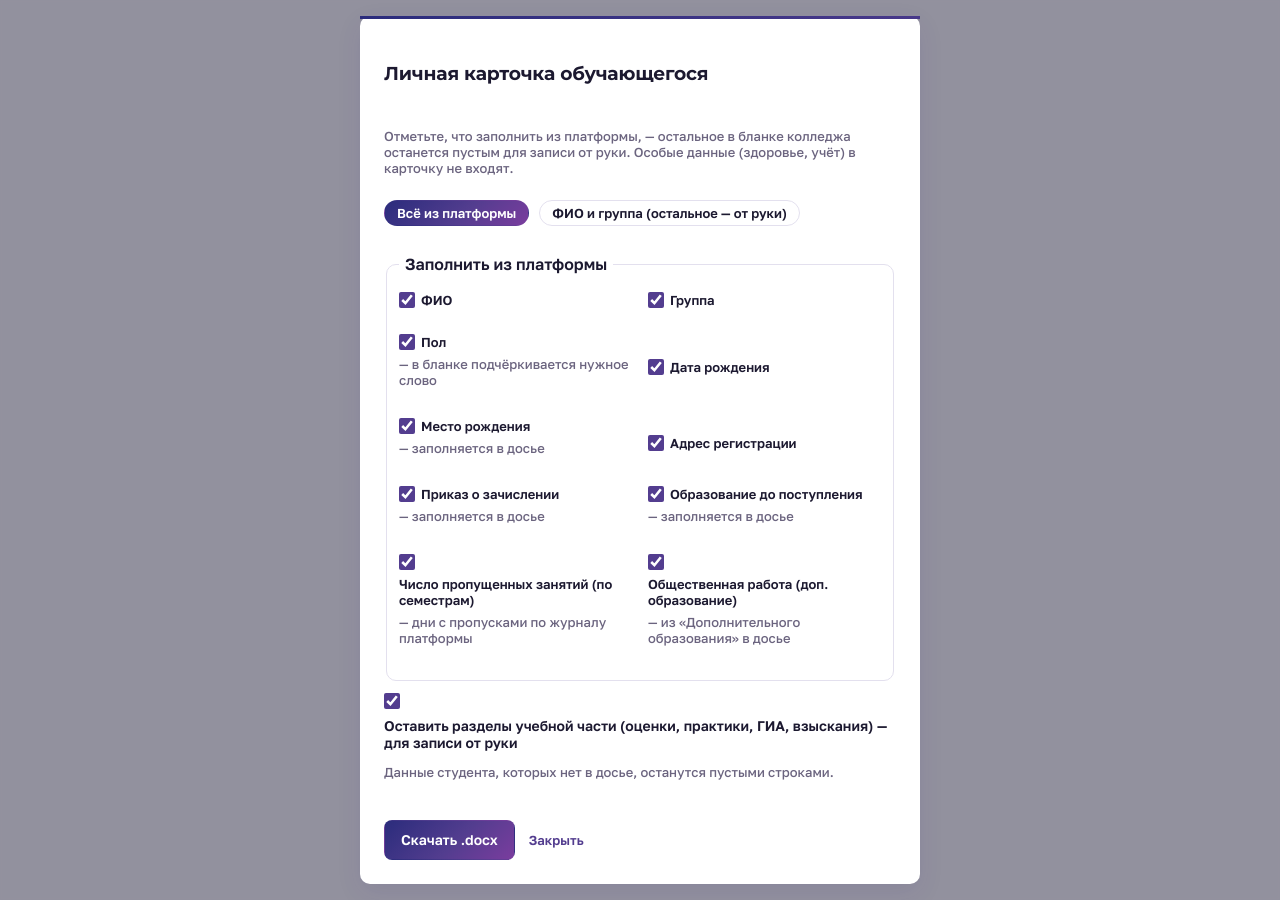
Test case: StudentCardModal — личная карточка в Word › по умолчанию отмечено всё, что есть в платформе, разделы учебной части сохраняются
Click the button "Скачать .docx".
click(449, 840)  # box [384,820,515,860]
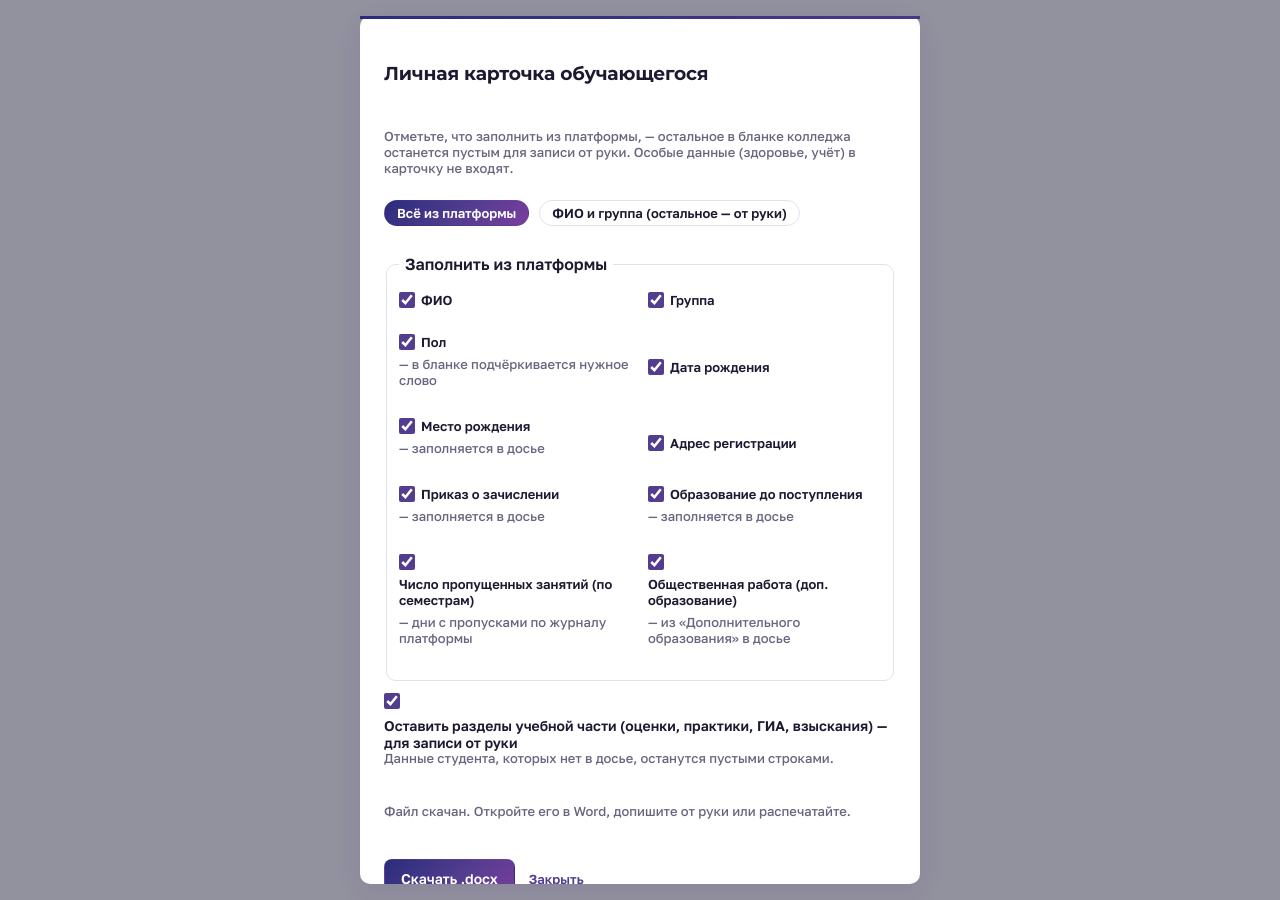
Expected: the text "Файл скачан" is shown, [384,803,851,819]
